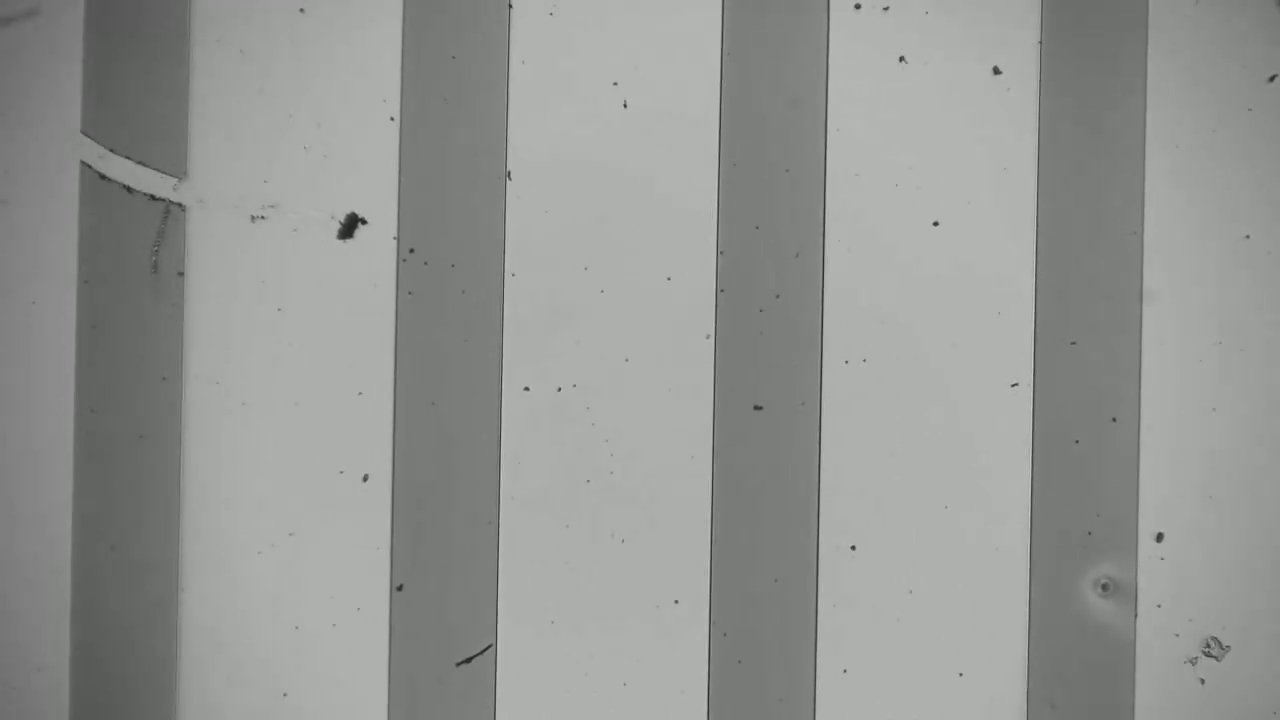Short_circuit: (41, 112, 234, 248)
